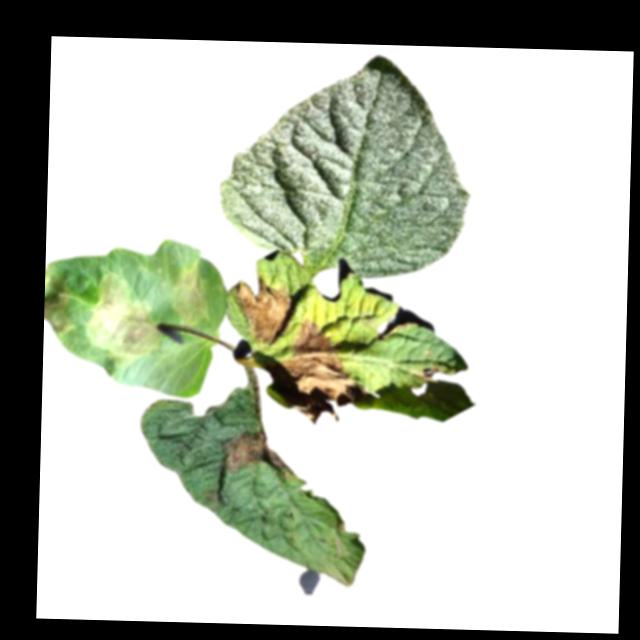Late_blight: (281, 317, 372, 423), (83, 273, 163, 362), (234, 274, 294, 348), (219, 429, 296, 477), (167, 265, 211, 329), (44, 276, 77, 338), (417, 366, 441, 385)
